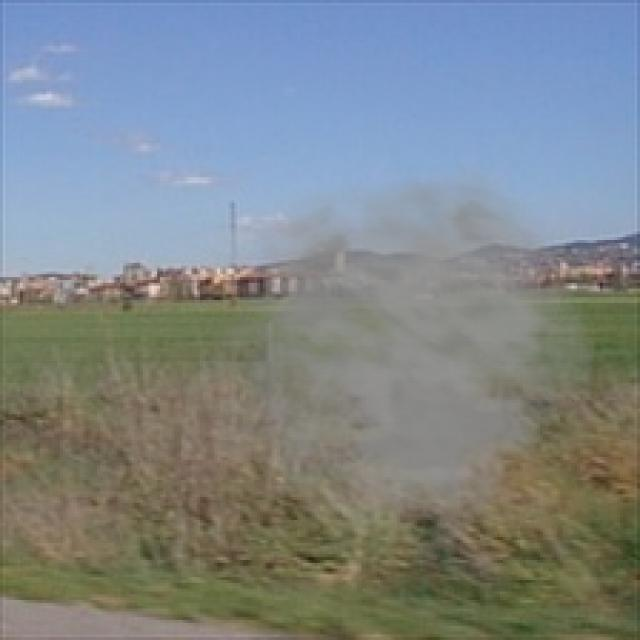smoke: (192, 163, 597, 551)
